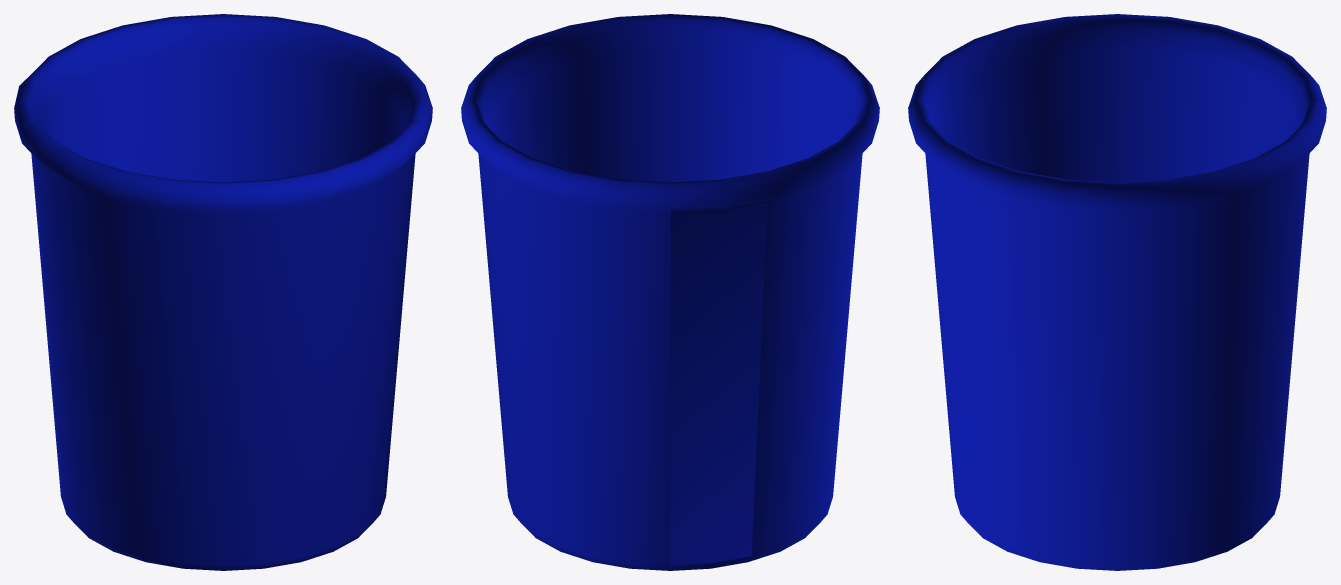
File: handwash_bucket.FBX
3 views of the same model, side by side, from view 1: azimuth 30°, elevation 25°; view 2: azimuth 150°, elevation 25°; view 3: azimuth 270°, elevation 25° (orthographic).
Parts seen in each view (by area): view 1: handwash_bucket; view 2: handwash_bucket; view 3: handwash_bucket.
Part boxes in pixels (bbox=[...]): handwash_bucket: bbox=[14, 14, 432, 570]; handwash_bucket: bbox=[461, 14, 879, 570]; handwash_bucket: bbox=[908, 14, 1326, 570].
Bounding box in the file's own units: 0.4514 × 0.4828 × 0.4514.
